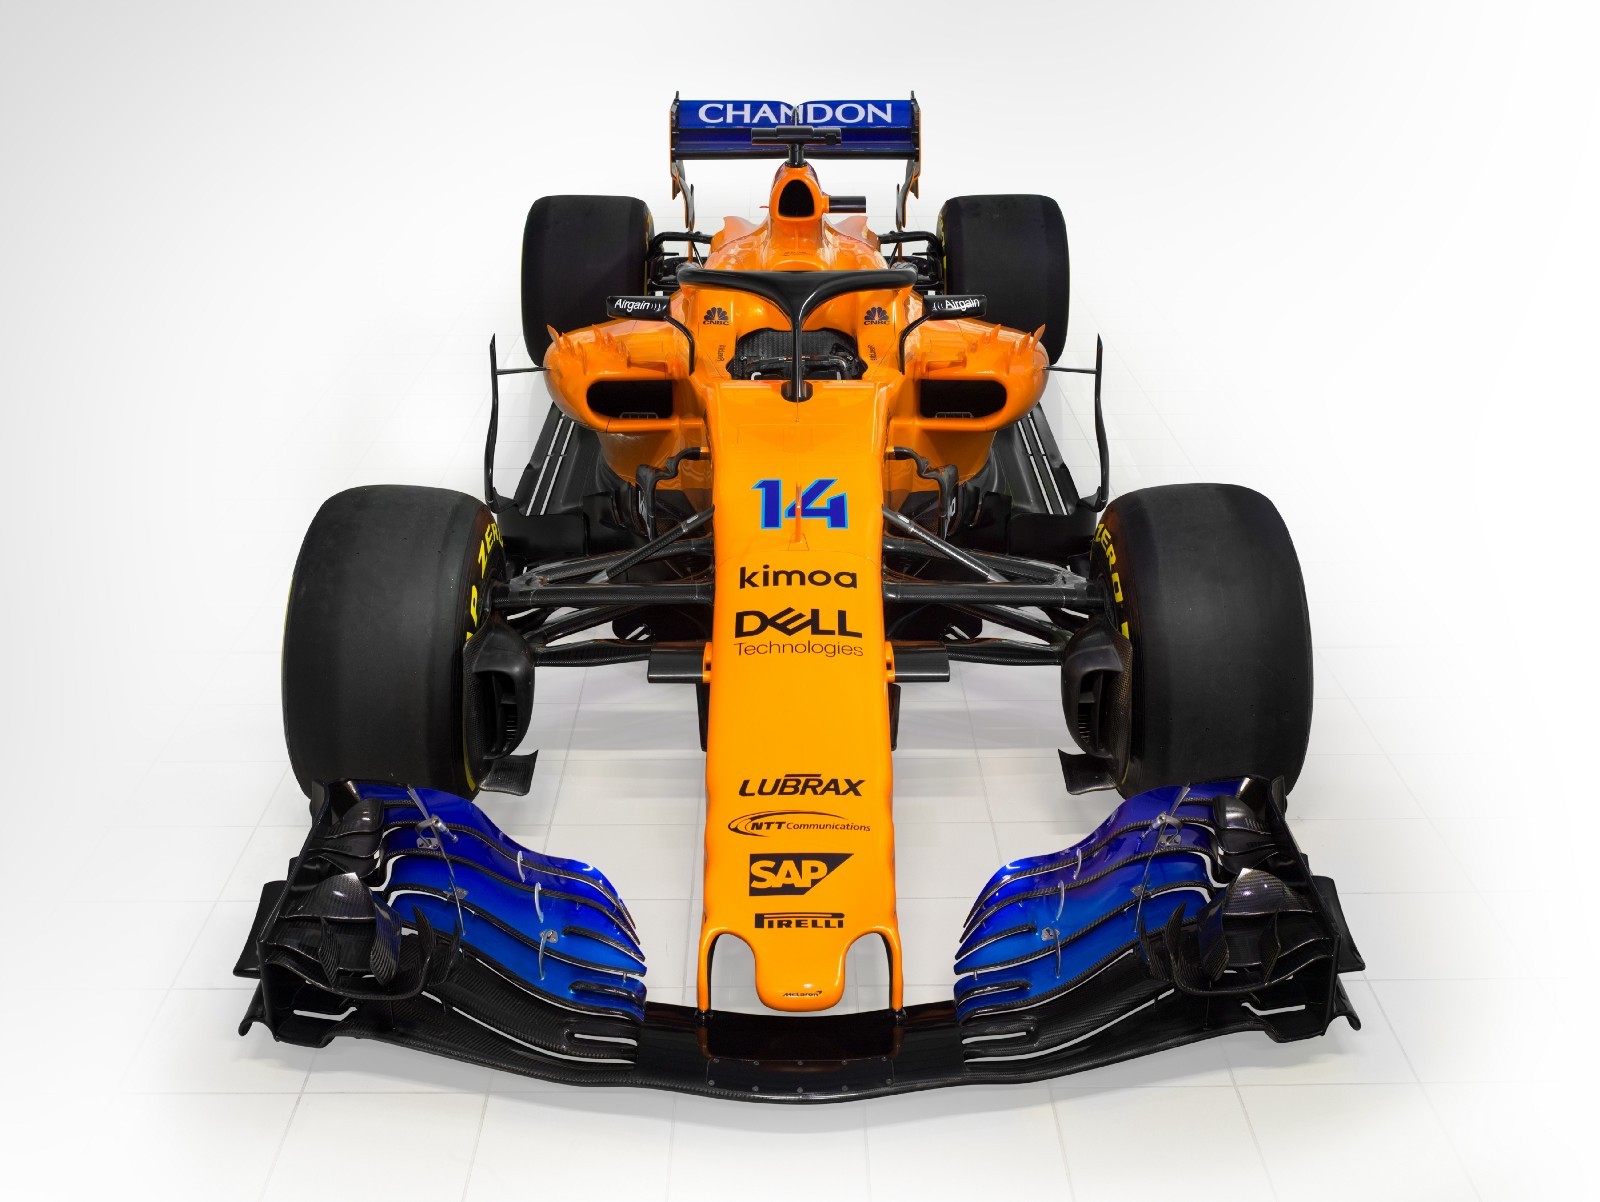f1_car: (211, 74, 1394, 1120)
